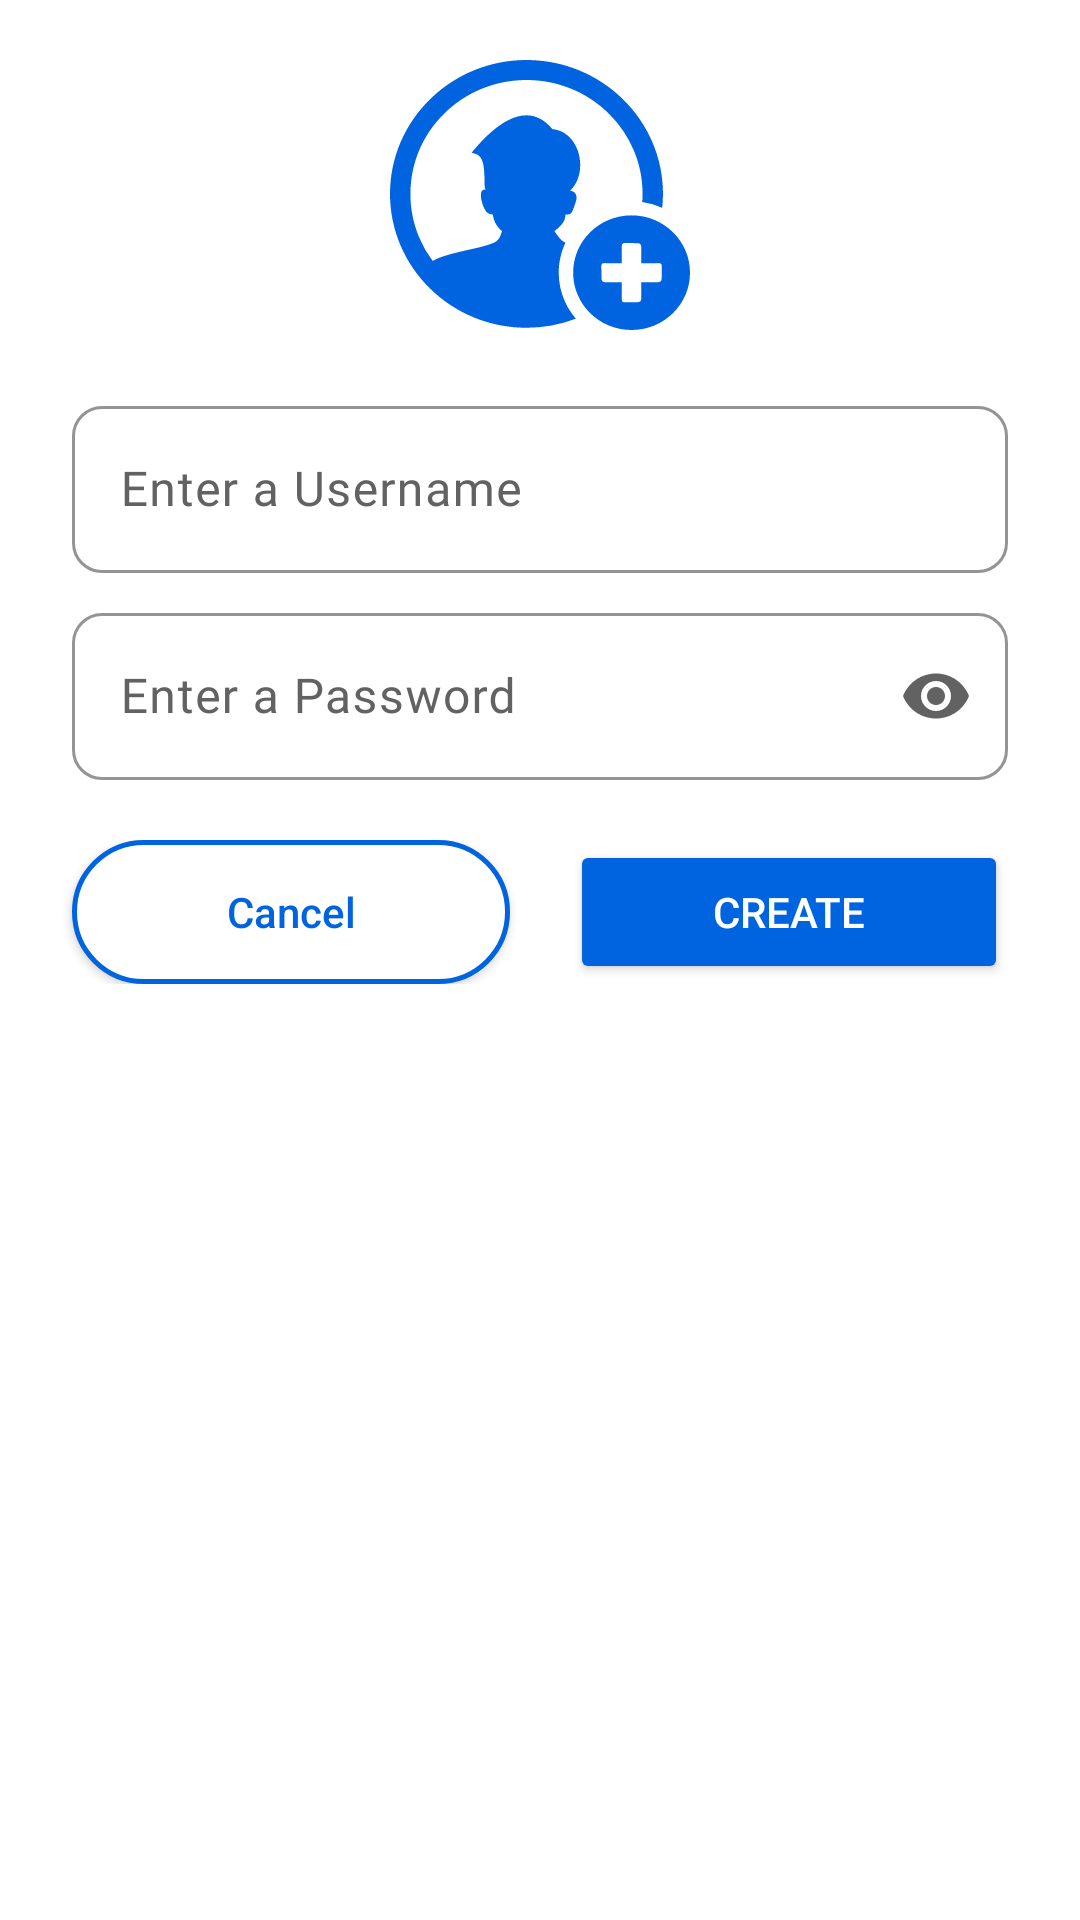

Icons on this 1080*1920 Android screen, each with its box as bbox(x1, y1, x2, y2):
create account: bbox(390, 60, 690, 330)
